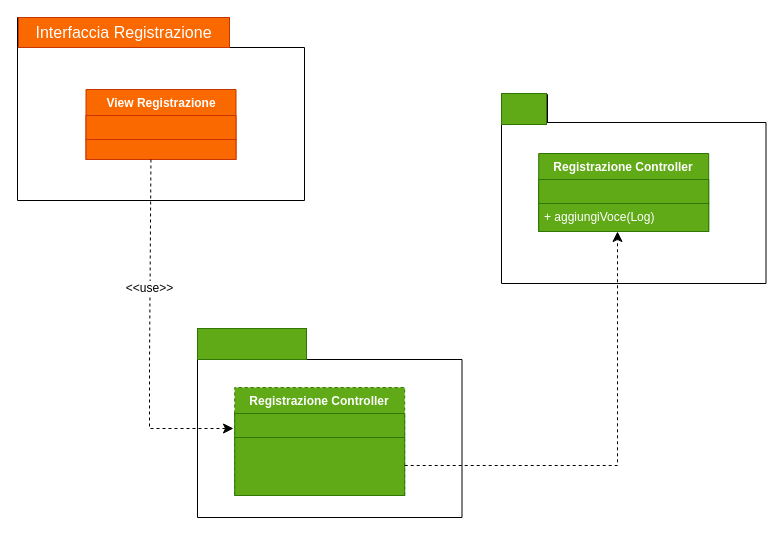
The diagram is 784 pixels wide and 537 high, and some of its shapes have lost their labels. The shapes that lost their labels are listed below. From the top down, each one's centre as x and y in pixels, then its label:
(x=523, y=108): Log
(x=251, y=344): registrazione
(x=319, y=466): + registraUtente(Nome, Cognome, età, mail, password)
